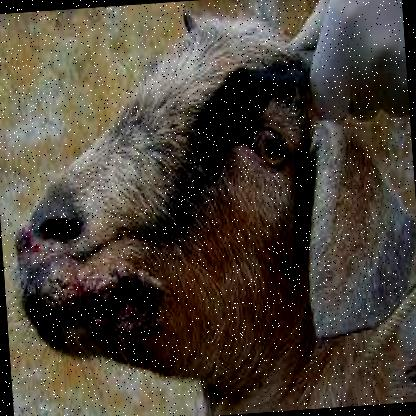ppr: (11, 215, 137, 349)
